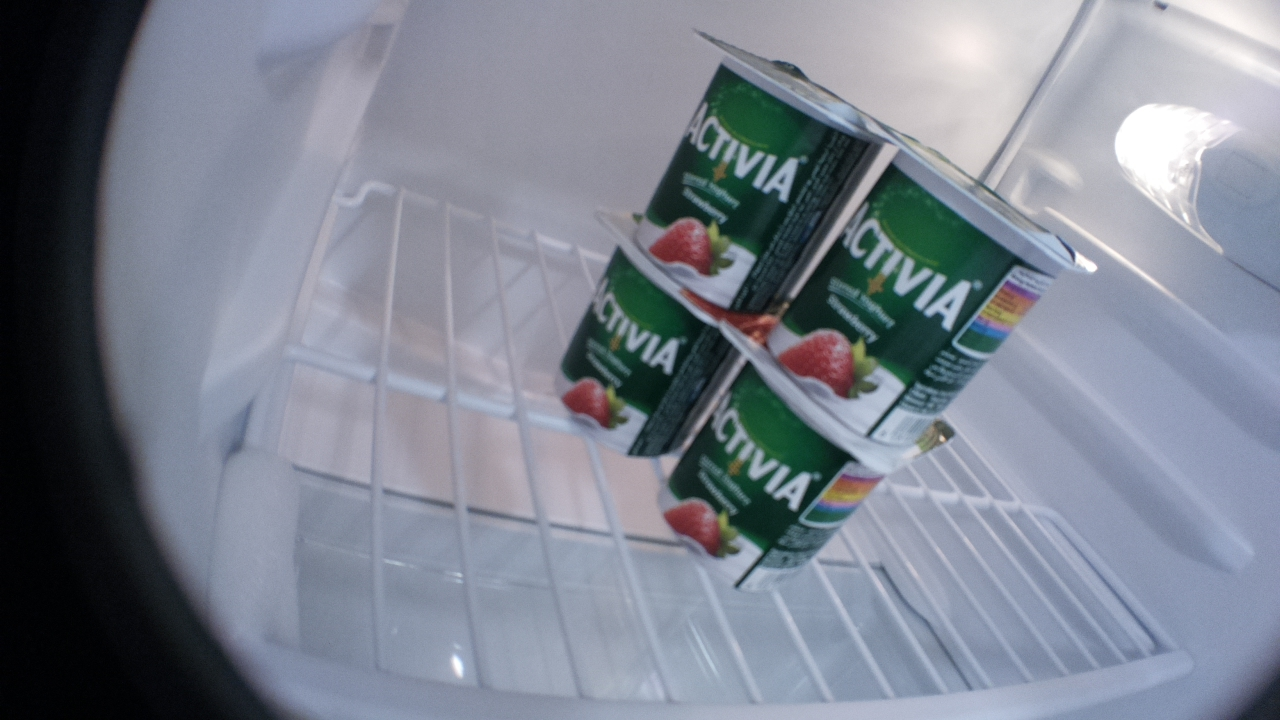yoghurt: (768, 119, 1097, 453), (657, 315, 955, 602), (632, 23, 904, 321), (547, 216, 745, 457)
